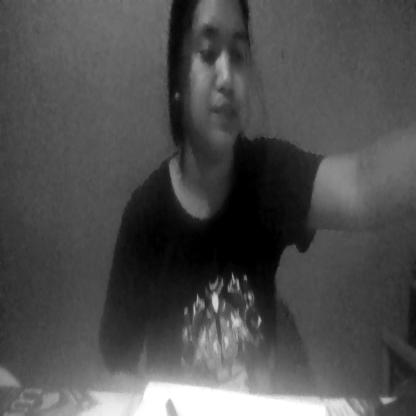Distracted: (172, 0, 262, 172)
